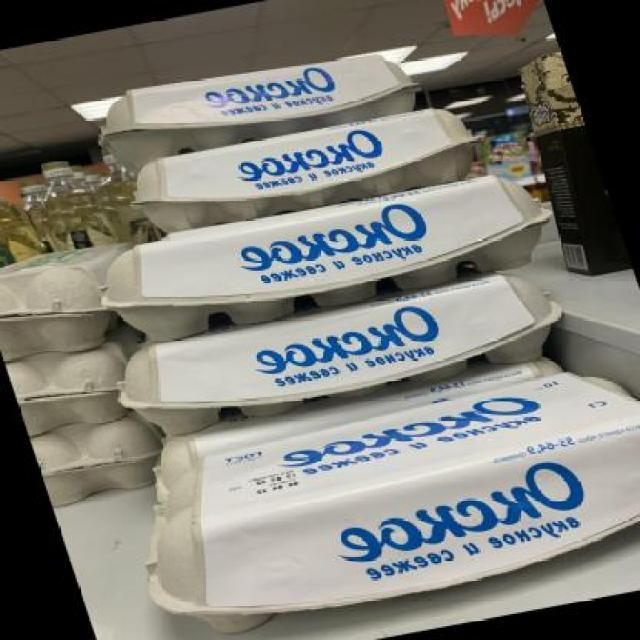egg: (105, 352, 640, 640), (85, 166, 566, 348), (104, 266, 582, 442), (121, 103, 487, 240), (84, 36, 430, 169), (5, 342, 136, 436), (29, 414, 160, 508), (0, 264, 112, 366), (27, 152, 118, 259), (0, 156, 45, 278)
